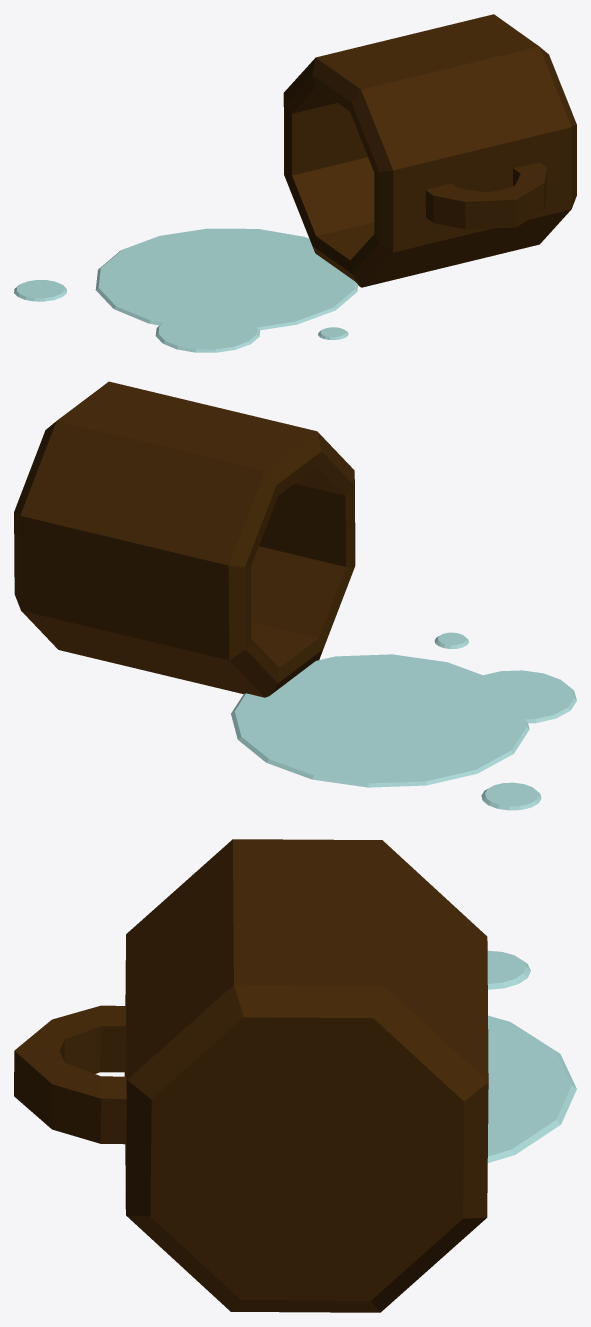
The model's file is Brown_Spill.fbx.
3 views of the same model, one above another, from view 1: azimuth 30°, elevation 25°; view 2: azimuth 150°, elevation 25°; view 3: azimuth 270°, elevation 25° (orthographic). The views are drawn at different scales.
Visible parts, largest first — view 1: Brown_Spill; view 2: Brown_Spill; view 3: Brown_Spill.
Part boxes in pixels (bbox=[...]): Brown_Spill: bbox=[14, 14, 576, 352]; Brown_Spill: bbox=[14, 381, 576, 810]; Brown_Spill: bbox=[14, 839, 576, 1312].
Bounding box in the file's own units: 123 × 51.03 × 78.82.
